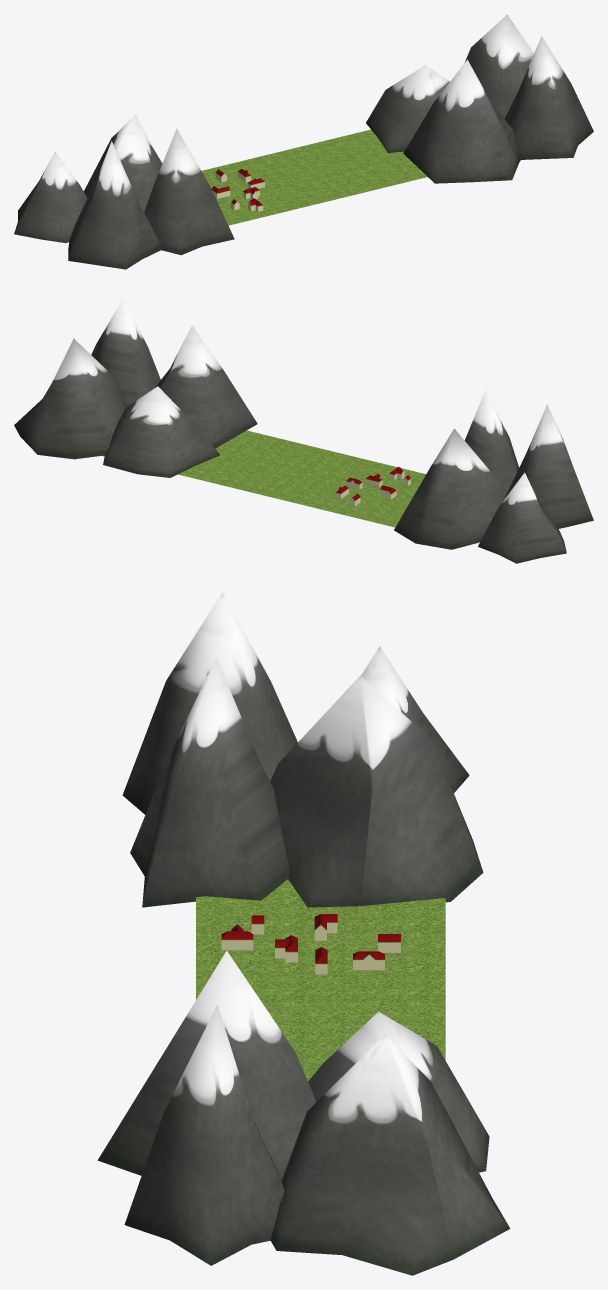
File: terrain_1.glb
3 views of the same model, one above another, from view 1: azimuth 30°, elevation 25°; view 2: azimuth 150°, elevation 25°; view 3: azimuth 270°, elevation 25° (orthographic). The views are drawn at different scales.
Parts seen in each view (by area): view 1: Circle.0111; view 2: Circle.0111, Circle.0112; view 3: Circle.0111, Circle.0112.
Part boxes in pixels (x1,y1,x2,y2): Circle.0111: (14, 14, 593, 269); Circle.0111: (14, 298, 593, 563); Circle.0112: (365, 466, 404, 487); Circle.0111: (97, 592, 510, 1275); Circle.0112: (221, 924, 297, 962).
Size of the model in its own units: 201 by 38.65 by 66.16.
32 materials, 27 textured.
